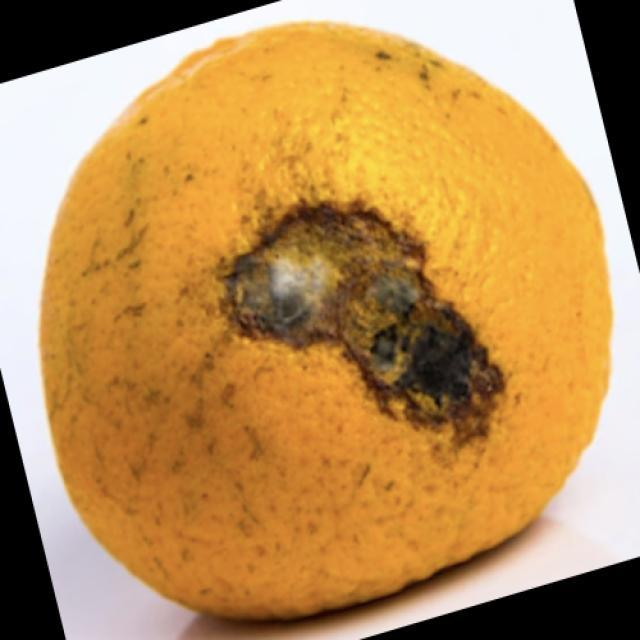sedikit-busuk: (41, 23, 611, 618), (226, 204, 503, 434)
